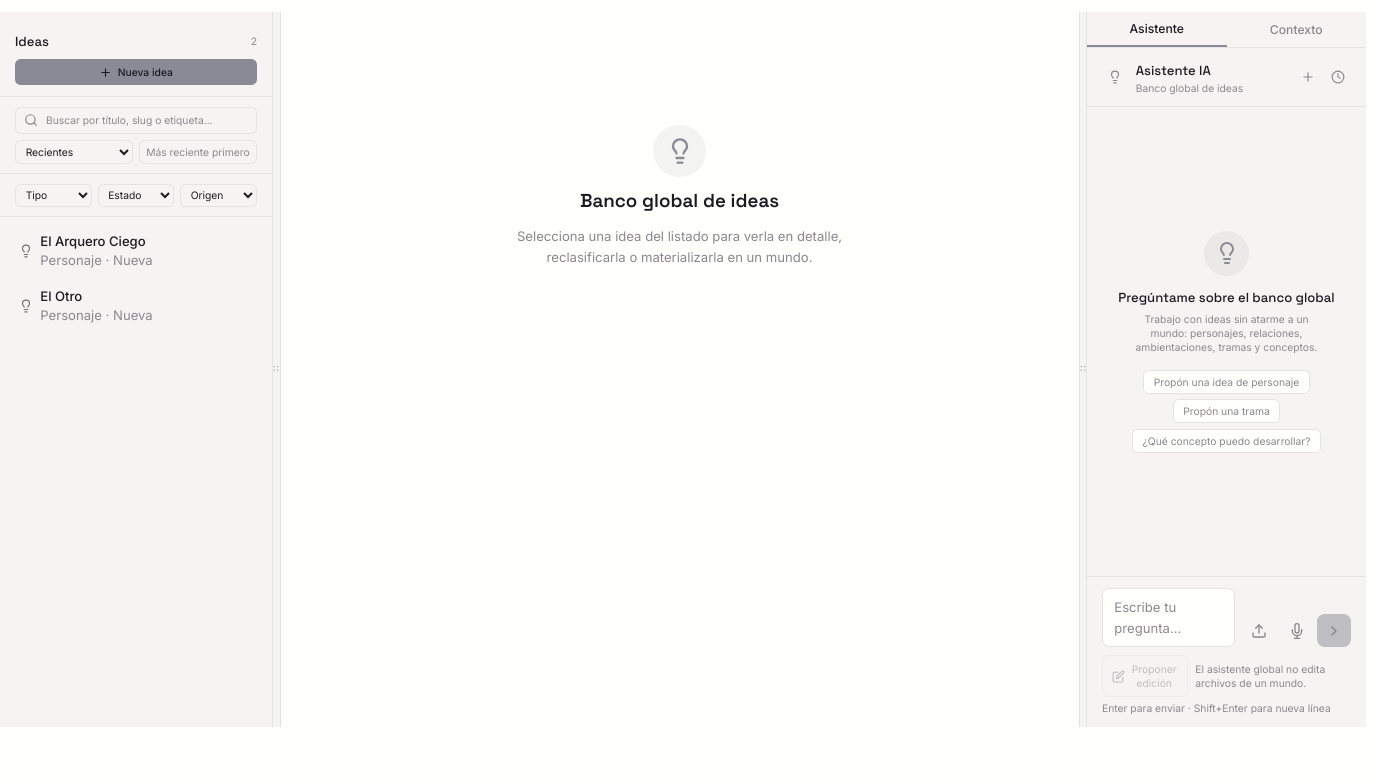
Test: IdeasWorkshop › filters the list when typing in the search box (title/slug/tags)
expect the button "El Arquero Ciego Personaje · Nueva" is shown: met, box left=8, top=225, right=264, bottom=277
expect the button "El Otro Personaje · Nueva" is shown: met, box left=8, top=279, right=264, bottom=332
Note: "arquero" matches title/slug/tags of the first idea only.
In the field named "Buscar ideas": (136, 120) left=15, top=107, right=257, bottom=134, type "arquero"
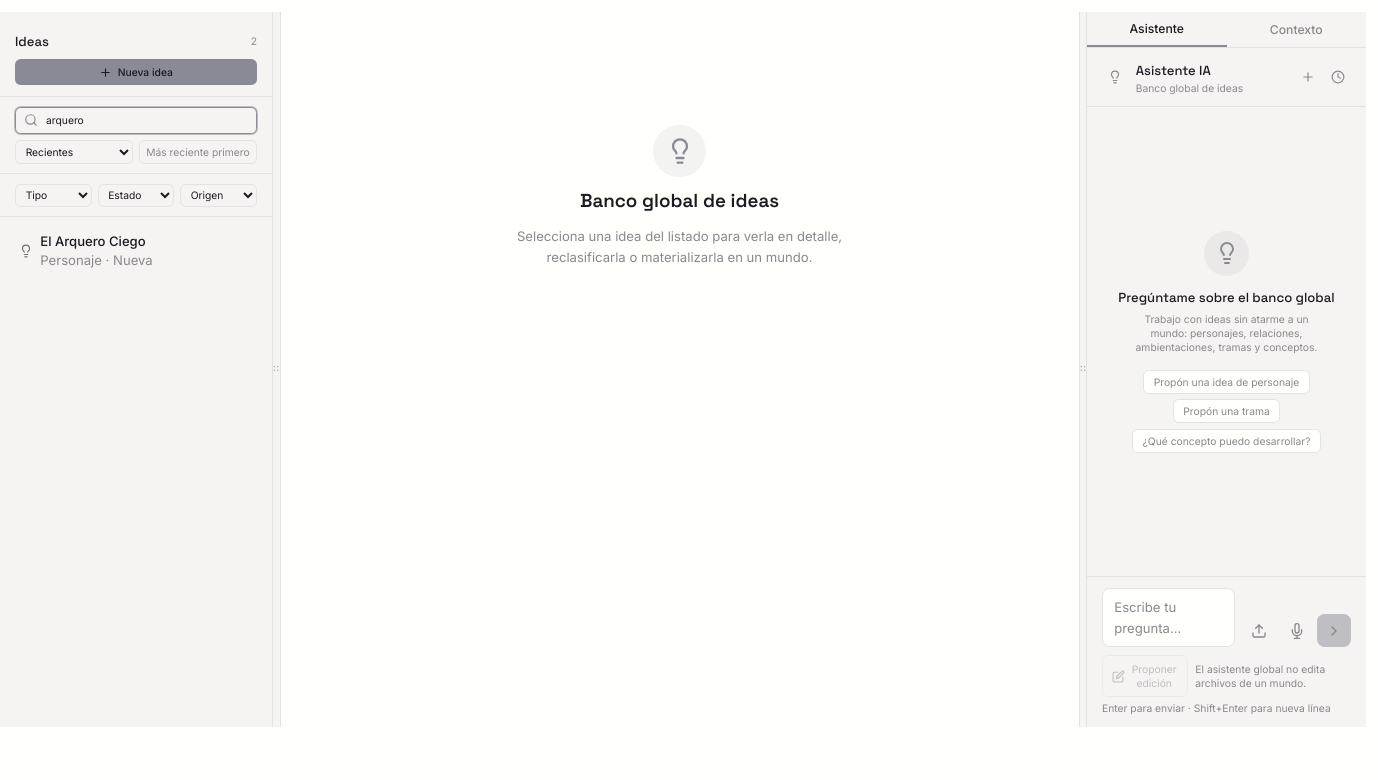
expect the button "El Arquero Ciego Personaje · Nueva" is shown: met, box left=8, top=225, right=264, bottom=277
expect the button "El Otro" is gone: met
